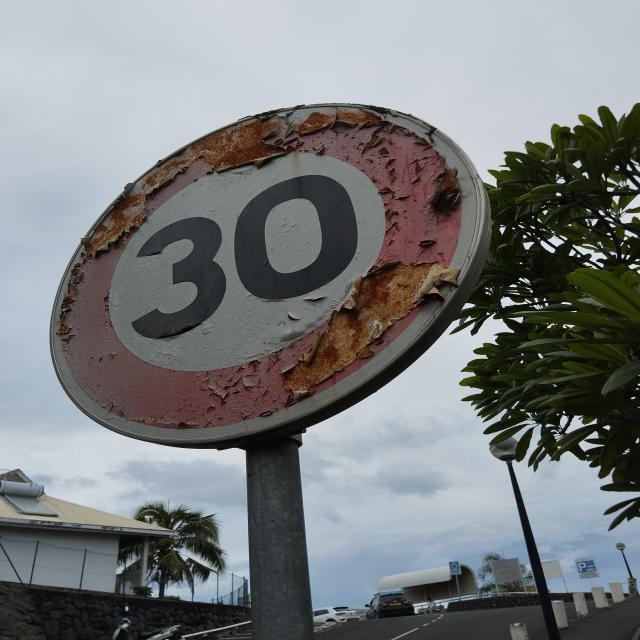Limite-30: (48, 99, 486, 446)
